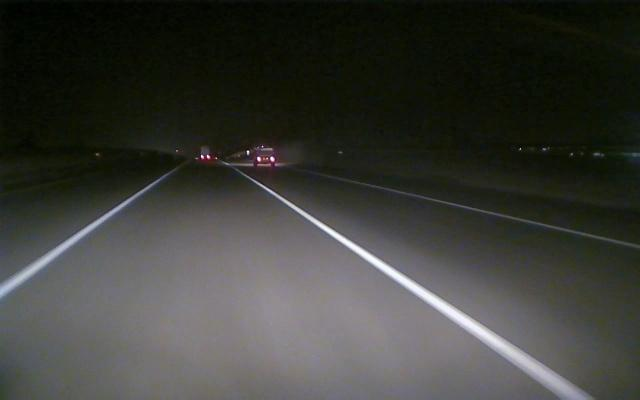lane: (253, 179, 592, 396), (3, 176, 165, 298), (363, 183, 640, 250)
